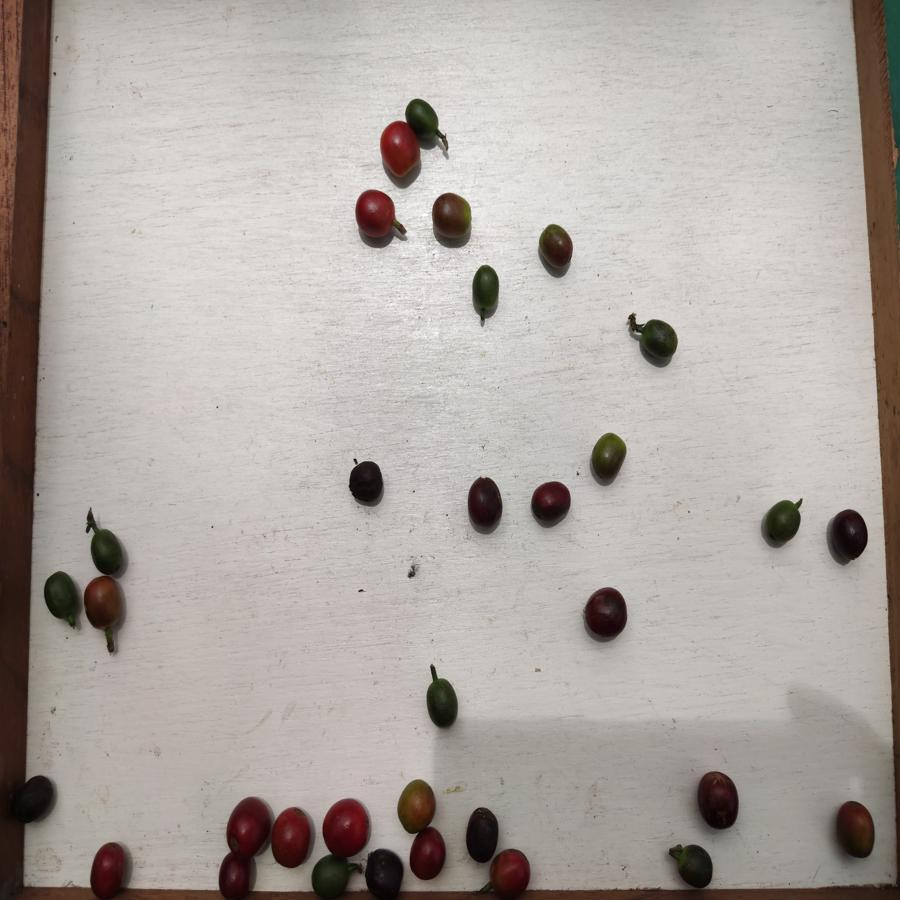Inmaduro: (41, 570, 83, 627), (636, 317, 681, 365), (425, 676, 462, 731), (673, 842, 715, 890), (763, 498, 801, 548), (85, 531, 129, 574), (310, 856, 352, 898), (473, 264, 503, 315), (406, 98, 439, 140)
Maduro: (320, 798, 371, 854), (85, 842, 135, 899), (272, 800, 311, 869), (354, 188, 397, 239), (488, 847, 533, 891), (381, 123, 417, 177)
Pinton: (831, 799, 878, 859), (427, 190, 476, 243), (84, 578, 127, 630), (395, 777, 437, 830), (589, 430, 628, 482), (538, 224, 573, 271)
Sobremaduro: (581, 584, 630, 641), (224, 798, 272, 855), (698, 768, 741, 829), (828, 506, 869, 566), (465, 476, 507, 533), (15, 775, 58, 828), (526, 480, 572, 528), (409, 829, 447, 884), (346, 460, 387, 507), (367, 848, 403, 897), (217, 854, 259, 893), (465, 806, 495, 860)
